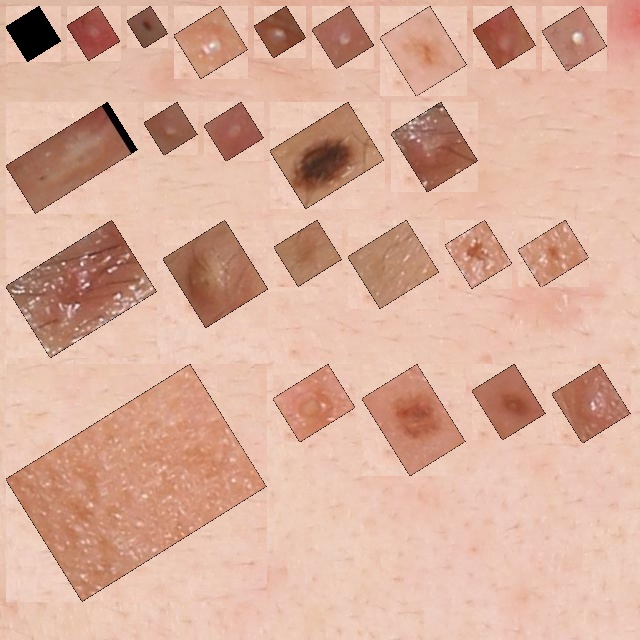hypertrophic_scar: (17, 113, 126, 202)
melasma: (17, 375, 255, 590), (359, 231, 428, 297), (529, 231, 578, 276), (285, 231, 331, 275)
nevus: (281, 113, 373, 197), (373, 375, 454, 465), (391, 17, 456, 85), (483, 375, 534, 429), (17, 17, 50, 50), (138, 17, 157, 37)
pustule: (17, 231, 145, 346), (174, 231, 257, 316), (402, 113, 467, 181), (284, 375, 344, 431), (563, 375, 619, 432), (185, 17, 237, 67), (553, 17, 596, 60), (484, 17, 525, 58), (323, 17, 363, 57), (215, 113, 253, 150), (78, 17, 109, 49), (155, 113, 186, 144), (265, 17, 295, 46)
